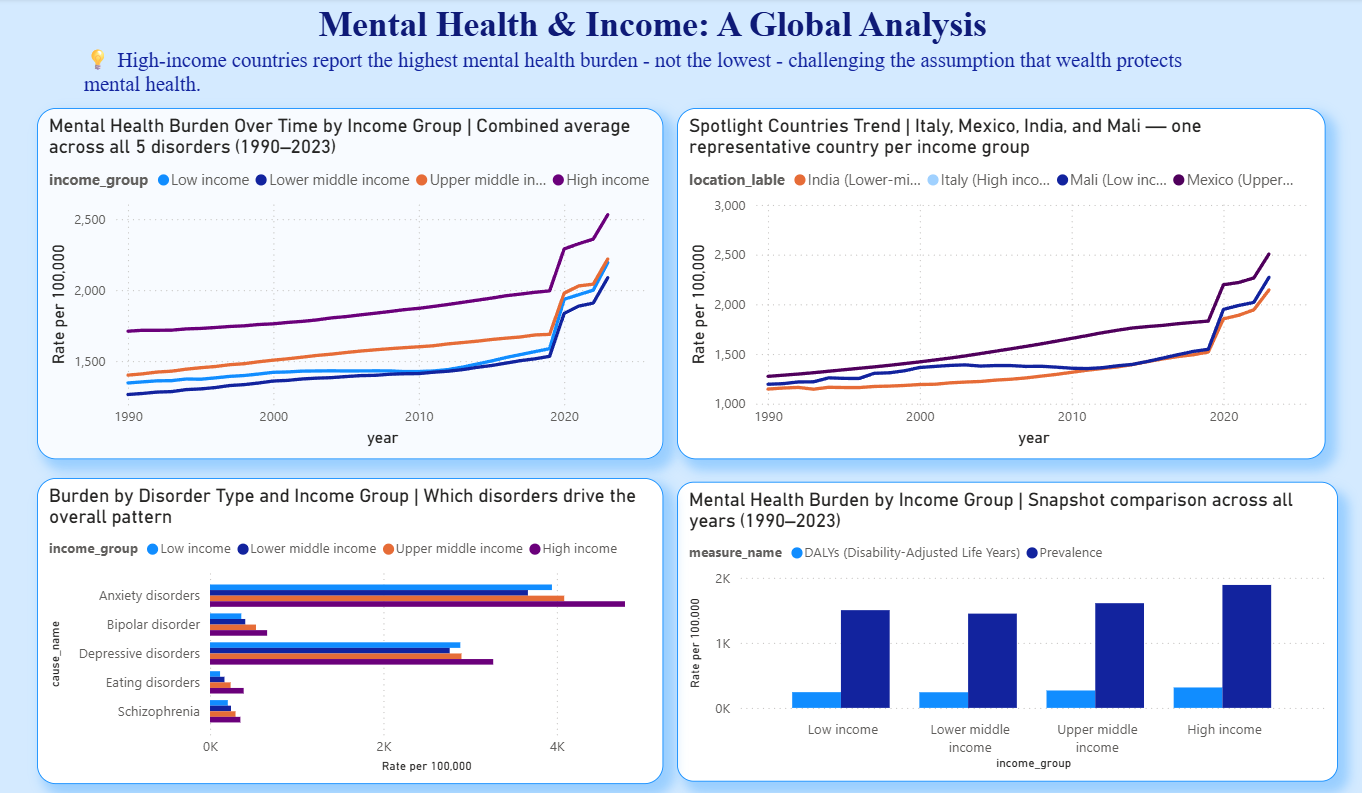

Layout of this report page (visuals, bound fields, positions):
{"tool":"powerbi","page":{"name":"Page 1","canvas":[1280,720],"ordinal":0},"visuals":[{"type":"clusteredColumnChart","title":"Mental Health Burden by Income Group | Snapshot comparison across all years (1990–2023)","fields":{"Category":["income_group_summary.income_group"],"Series":["income_group_summary.measure_name"],"Y":["Sum(income_group_summary.val)"]},"box":[640.2,436.2,596.2,270.5],"z":0},{"type":"lineChart","title":"Mental Health Burden Over Time by Income Group | Combined average across all 5 disorders (1990–2023)","fields":{"Category":["trend_by_income_group.year"],"Y":["Sum(trend_by_income_group.val)"],"Series":["trend_by_income_group.income_group"]},"box":[63.1,99.2,564.7,316.7],"z":1000},{"type":"clusteredBarChart","title":"Burden by Disorder Type and Income Group | Which disorders drive the overall pattern","fields":{"Y":["Sum(disorder_by_income.val)"],"Category":["disorder_by_income.cause_name"],"Series":["disorder_by_income.income_group"]},"box":[63.1,432.8,564.7,276.1],"z":2000},{"type":"lineChart","title":"Spotlight Countries Trend | Italy, Mexico, India, and Mali — one representative country per income group","fields":{"Category":["spotlight_countries_trend.year"],"Y":["Avg(spotlight_countries_trend.val)"],"Series":["spotlight_countries_trend.location_lable"]},"box":[640.2,99.2,585,316.7],"z":3000},{"type":"textbox","box":[100.3,0,1035.7,99],"z":4000}]}

Visuals, with their boxes on the page's 1280x720 design canvas (x1, y1, x2, y2). These are canvas units, not pixel positions in the 1362x793 screenshot, which may show the page scaled, cropped or inside an application window:
"Mental Health Burden by Income Group | Snapshot comparison across all years (1990–2023)" clusteredColumnChart: rect(640, 436, 1236, 707)
"Mental Health Burden Over Time by Income Group | Combined average across all 5 disorders (1990–2023)" lineChart: rect(63, 99, 628, 416)
"Burden by Disorder Type and Income Group | Which disorders drive the overall pattern" clusteredBarChart: rect(63, 433, 628, 709)
"Spotlight Countries Trend | Italy, Mexico, India, and Mali — one representative country per income group" lineChart: rect(640, 99, 1225, 416)
textbox: rect(100, 0, 1136, 99)
